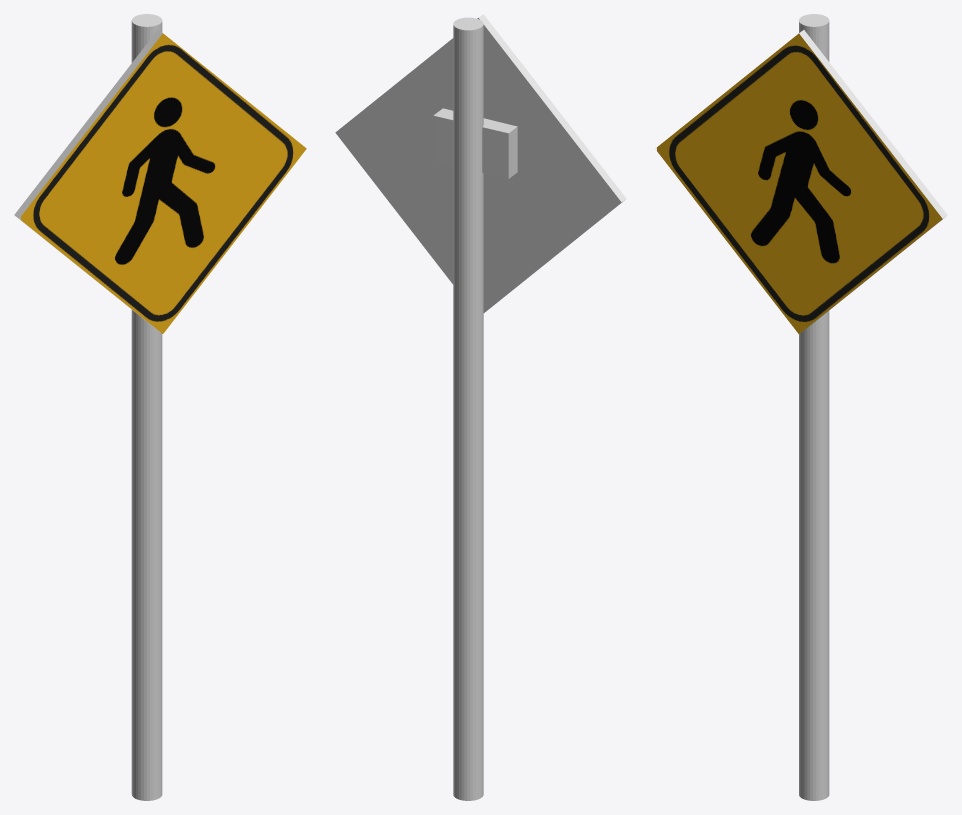
File: PeringPejalanKaki.fbx
The picture shows the model from 3 angles, left to right: view 1: azimuth 30°, elevation 25°; view 2: azimuth 150°, elevation 25°; view 3: azimuth 330°, elevation 25°; orthographic projection.
Parts seen in each view (by area): view 1: Cube.002, Cylinder.002; view 2: Cube.002, Cylinder.002, Cube.001; view 3: Cube.002, Cylinder.002.
Part boxes in pixels (x1,y1,x2,y2): Cube.002: (14, 30, 306, 333); Cylinder.002: (131, 14, 162, 800); Cube.002: (335, 14, 626, 312); Cylinder.002: (453, 17, 483, 800); Cube.001: (433, 108, 517, 178); Cube.002: (655, 30, 947, 333); Cylinder.002: (799, 14, 829, 800).
Bounding box in the file's own units: 283 × 727 × 39.46.
Materials: 2 (1 with a texture image).
